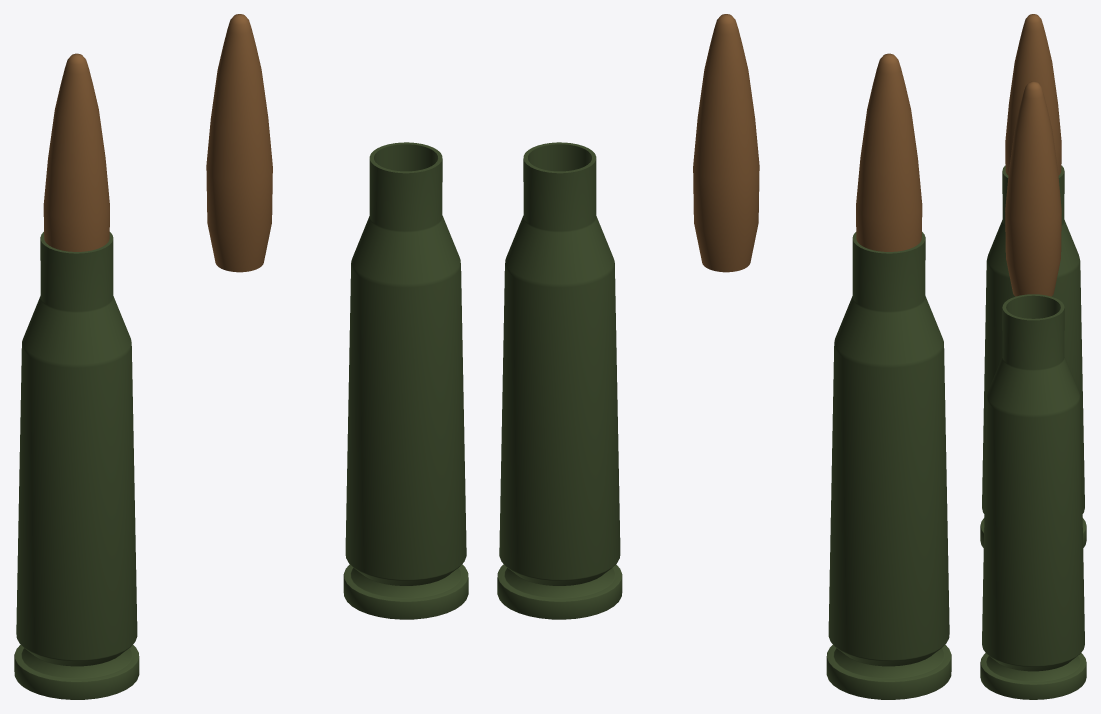
File: 5x45x39_Ammo.fbx
3 views of the same model, side by side, from view 1: azimuth 30°, elevation 25°; view 2: azimuth 150°, elevation 25°; view 3: azimuth 270°, elevation 25° (orthographic). The views are drawn at different scales.
Parts seen in each view (by area): view 1: Sleeve.001, Sleeve, Bullet_5x45-39.001, Bullet_5x45-39; view 2: Sleeve.001, Sleeve, Bullet_5x45-39.001, Bullet_5x45-39; view 3: Sleeve.001, Bullet_5x45-39.001, Sleeve, Bullet_5x45-39.
Part boxes in pixels (left/top/right/bottom): Sleeve.001: left=343, top=142, right=468, bottom=619; Sleeve: left=14, top=232, right=139, bottom=699; Bullet_5x45-39.001: left=206, top=14, right=272, bottom=272; Bullet_5x45-39: left=43, top=53, right=109, bottom=251; Sleeve.001: left=497, top=142, right=622, bottom=619; Sleeve: left=826, top=232, right=951, bottom=699; Bullet_5x45-39.001: left=693, top=14, right=759, bottom=272; Bullet_5x45-39: left=856, top=53, right=922, bottom=251; Sleeve.001: left=980, top=294, right=1086, bottom=699; Bullet_5x45-39.001: left=1005, top=81, right=1061, bottom=296; Sleeve: left=980, top=165, right=1086, bottom=547; Bullet_5x45-39: left=1005, top=14, right=1061, bottom=175.
Bounding box in the file's own units: 267 × 361 × 66.03.
Materials: 2 (2 with a texture image).
